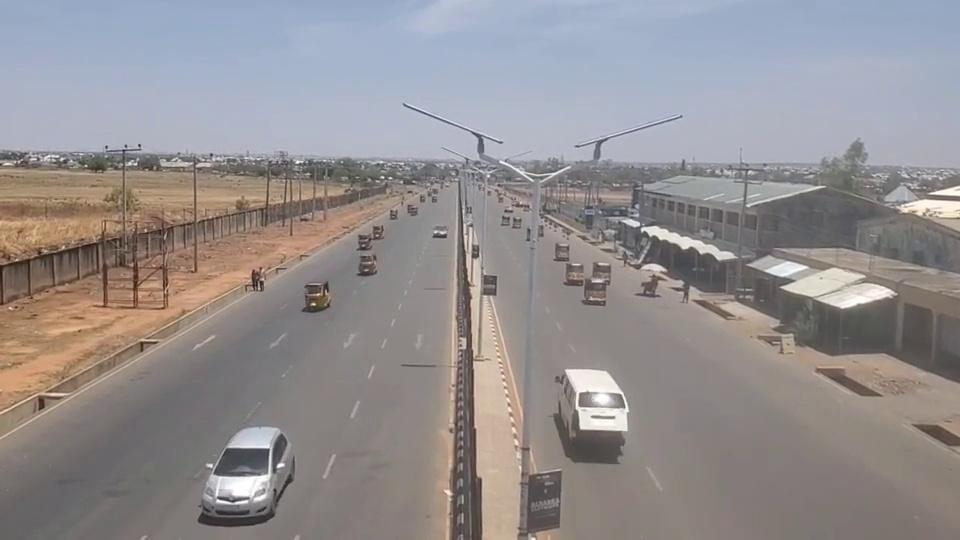bus: (554, 367, 629, 454)
car: (199, 424, 297, 525)
keke: (303, 280, 331, 310), (357, 252, 377, 274)
